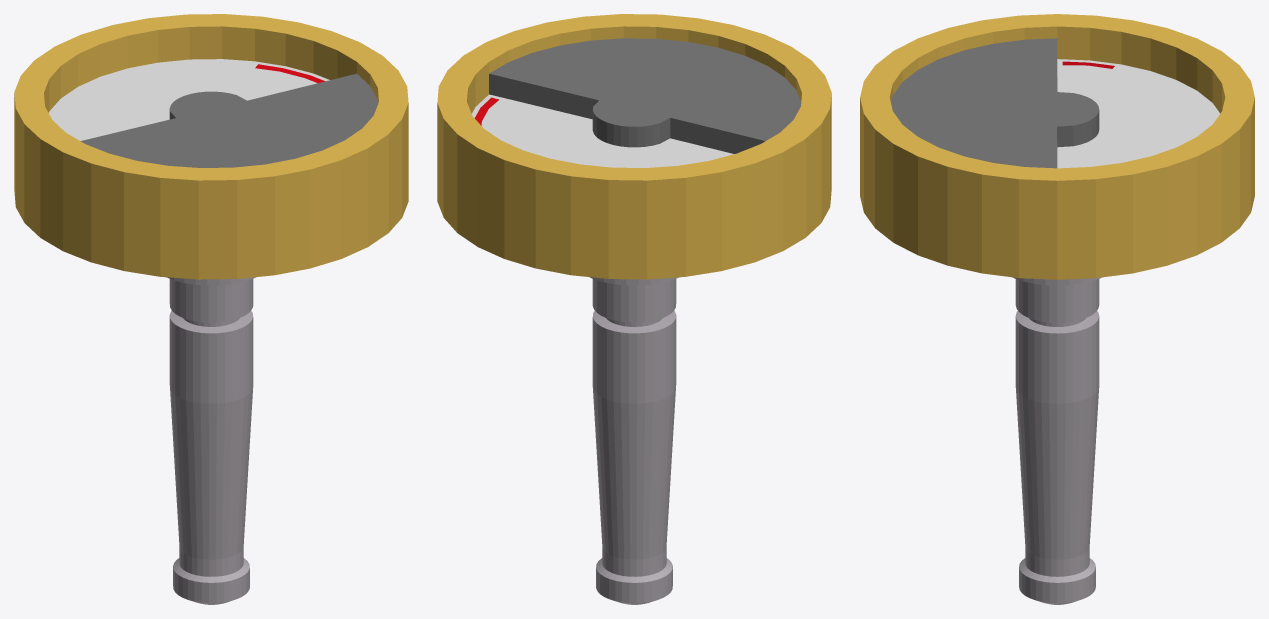
File: bothRedPressureGauge.fbx
3 renders of one model, left to right at view 1: azimuth 30°, elevation 25°; view 2: azimuth 150°, elevation 25°; view 3: azimuth 270°, elevation 25°, orthographic.
Parts seen in each view (by area): view 1: Cylinder; view 2: Cylinder; view 3: Cylinder.
Boxes of the visible parts, box(x1,y1,x2,y2) form: Cylinder: box(14, 14, 408, 604); Cylinder: box(437, 14, 831, 604); Cylinder: box(860, 14, 1254, 604).
Bounding box in the file's own units: 230 × 321 × 230.
